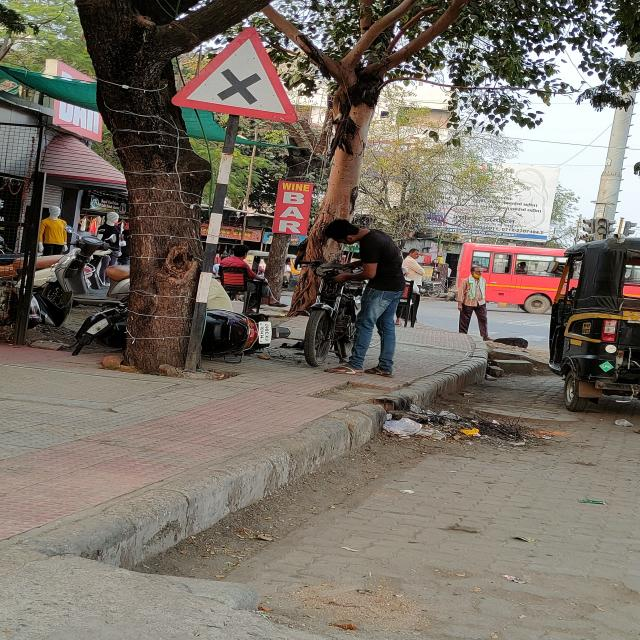cross_road: (170, 25, 298, 124)
